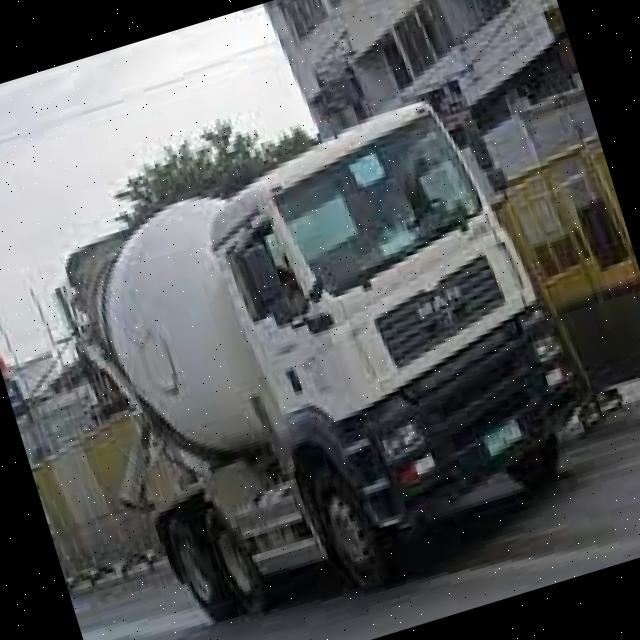Mixer Truck: (28, 73, 632, 640)
